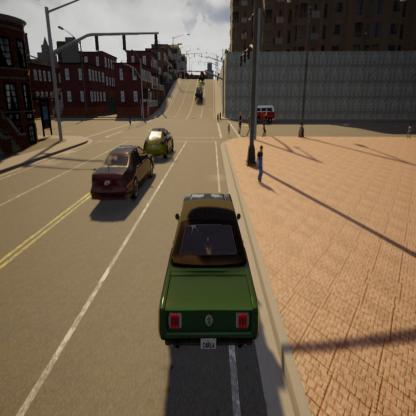Cars: (154, 188, 268, 362), (82, 140, 155, 210), (144, 124, 180, 164), (248, 102, 276, 125), (192, 84, 204, 104)
Pedestrian: (253, 144, 268, 185), (401, 122, 415, 141), (245, 110, 254, 136), (236, 109, 244, 137), (261, 112, 269, 138), (226, 121, 232, 138), (127, 110, 133, 126), (216, 112, 221, 124), (218, 110, 222, 122)
